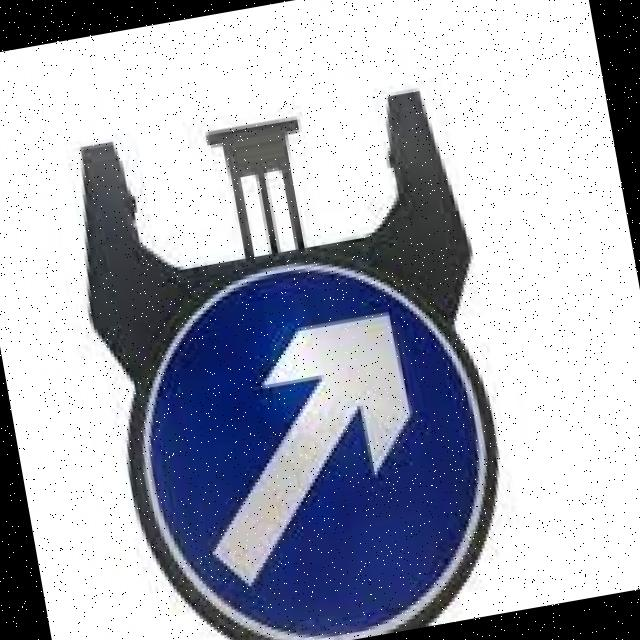compulsory_keep_right: (108, 231, 522, 640)
